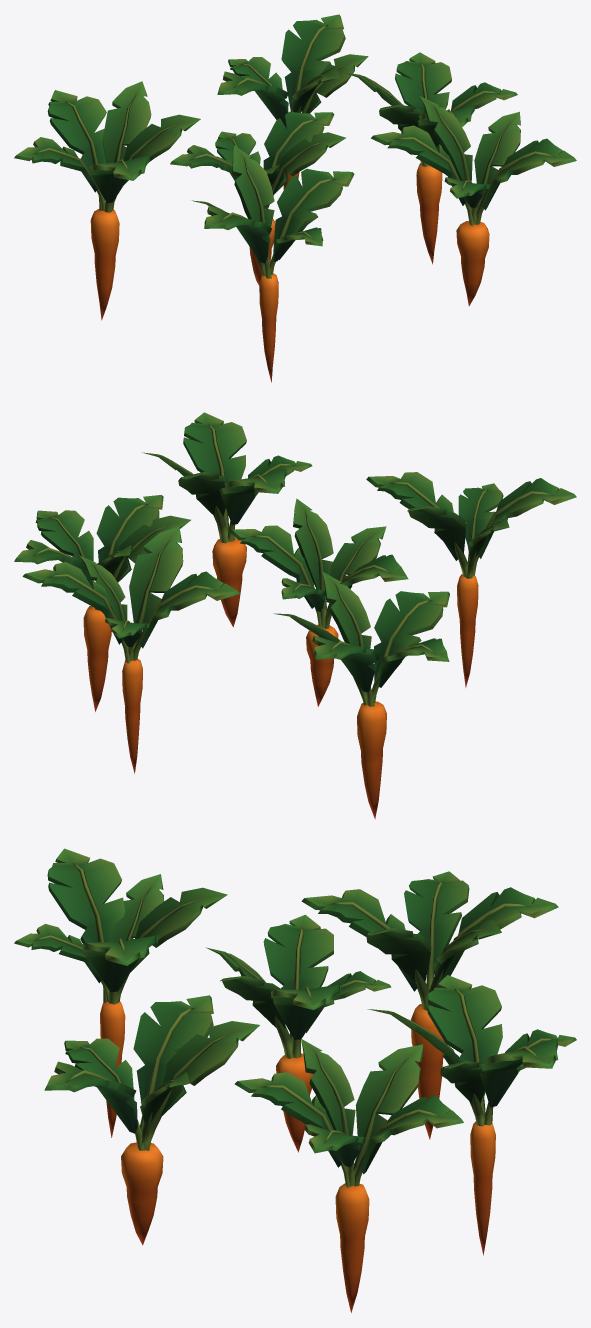
The model's file is SM_Plant_Carrot_Lv4.fbx.
3 renders of one model, top to bottom at view 1: azimuth 30°, elevation 25°; view 2: azimuth 150°, elevation 25°; view 3: azimuth 270°, elevation 25°, orthographic. The views are drawn at different scales.
Parts seen in each view (by area): view 1: SM_Plant_Carrot_Lv4; view 2: SM_Plant_Carrot_Lv4; view 3: SM_Plant_Carrot_Lv4.
Boxes of the visible parts, <box> form: SM_Plant_Carrot_Lv4: <box>14,14,576,382</box>; SM_Plant_Carrot_Lv4: <box>14,412,576,819</box>; SM_Plant_Carrot_Lv4: <box>14,848,576,1312</box>.
Size of the model in its own units: 85.02 by 40.39 by 74.45.
